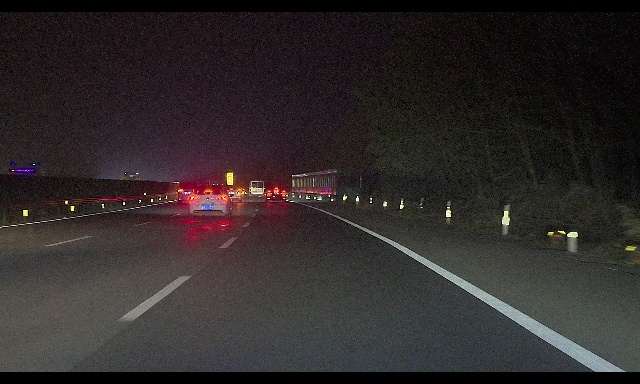car: (188, 185, 234, 219), (177, 182, 200, 203), (264, 183, 286, 202), (224, 185, 242, 202), (247, 180, 265, 197)
truck: (124, 171, 149, 192)
